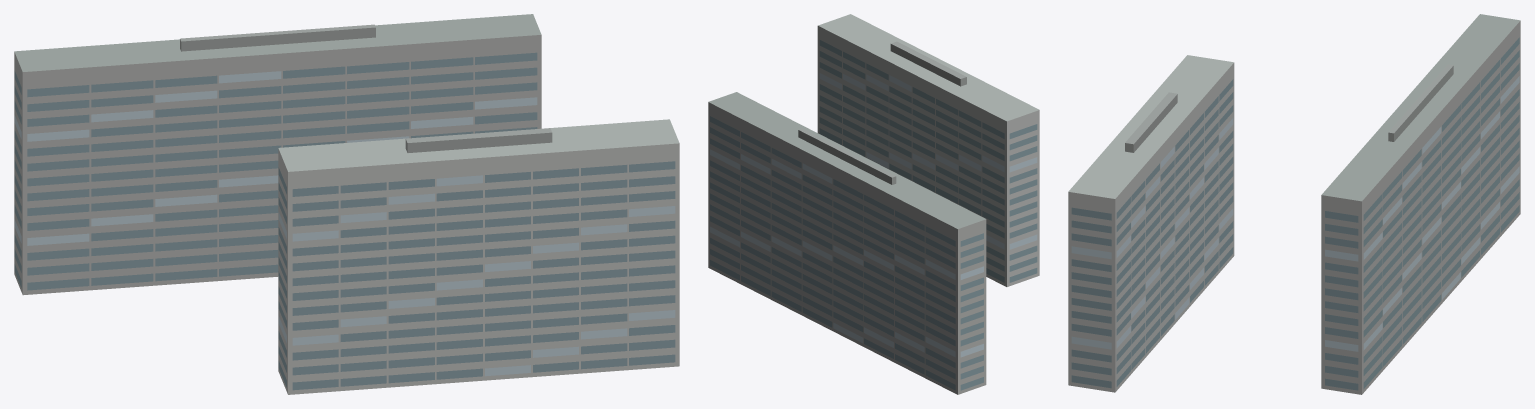
File: apt-a14386109.glb
The picture shows the model from 3 angles, left to right: view 1: azimuth 30°, elevation 25°; view 2: azimuth 150°, elevation 25°; view 3: azimuth 270°, elevation 25°; orthographic projection. The views are drawn at different scales.
Visible parts, largest first — view 1: apt-a14386109; view 2: apt-a14386109; view 3: apt-a14386109.
Boxes of the visible parts, x1,y1,x2,y2 form: apt-a14386109: [14, 14, 679, 394]; apt-a14386109: [708, 14, 1039, 394]; apt-a14386109: [1068, 14, 1520, 394].
Bounding box in the file's own units: 94.98 × 47.81 × 96.91.
